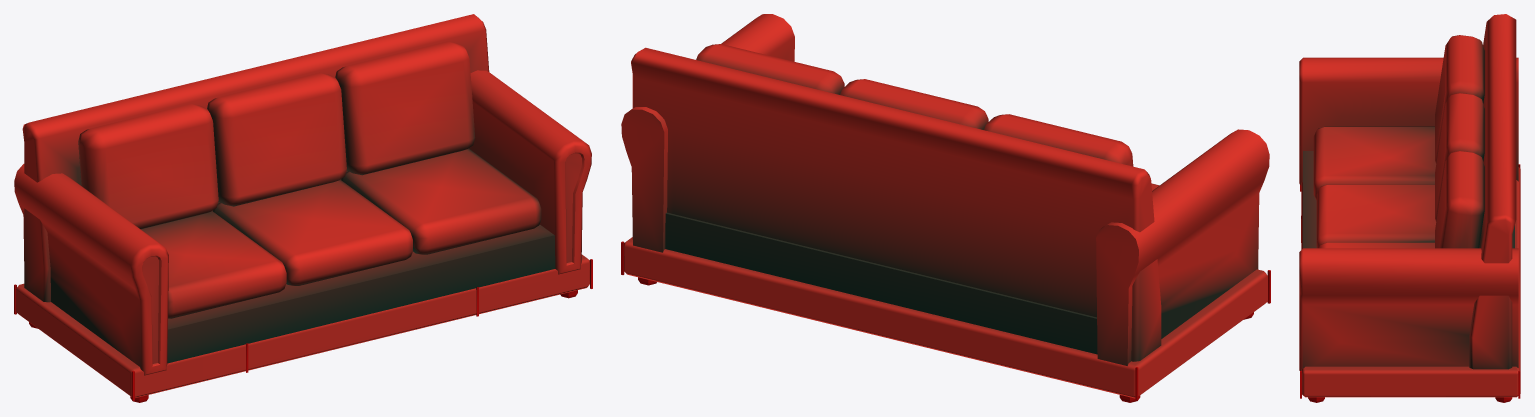
Rendered from CI_Living_Sofa_ThreeSeat_LOD0.glb.
The picture shows the model from 3 angles, left to right: view 1: azimuth 30°, elevation 25°; view 2: azimuth 150°, elevation 25°; view 3: azimuth 270°, elevation 25°; orthographic projection. The views are drawn at different scales.
Visible parts, largest first — view 1: CI_Living_Sofa_ThreeSeat_LOD0; view 2: CI_Living_Sofa_ThreeSeat_LOD0; view 3: CI_Living_Sofa_ThreeSeat_LOD0.
Part boxes in pixels (box(x1,y1,x2,y2)): CI_Living_Sofa_ThreeSeat_LOD0: box(14, 14, 592, 402); CI_Living_Sofa_ThreeSeat_LOD0: box(621, 14, 1270, 402); CI_Living_Sofa_ThreeSeat_LOD0: box(1299, 14, 1520, 402).
Size of the model in its own units: 2 by 0.845 by 0.898.
